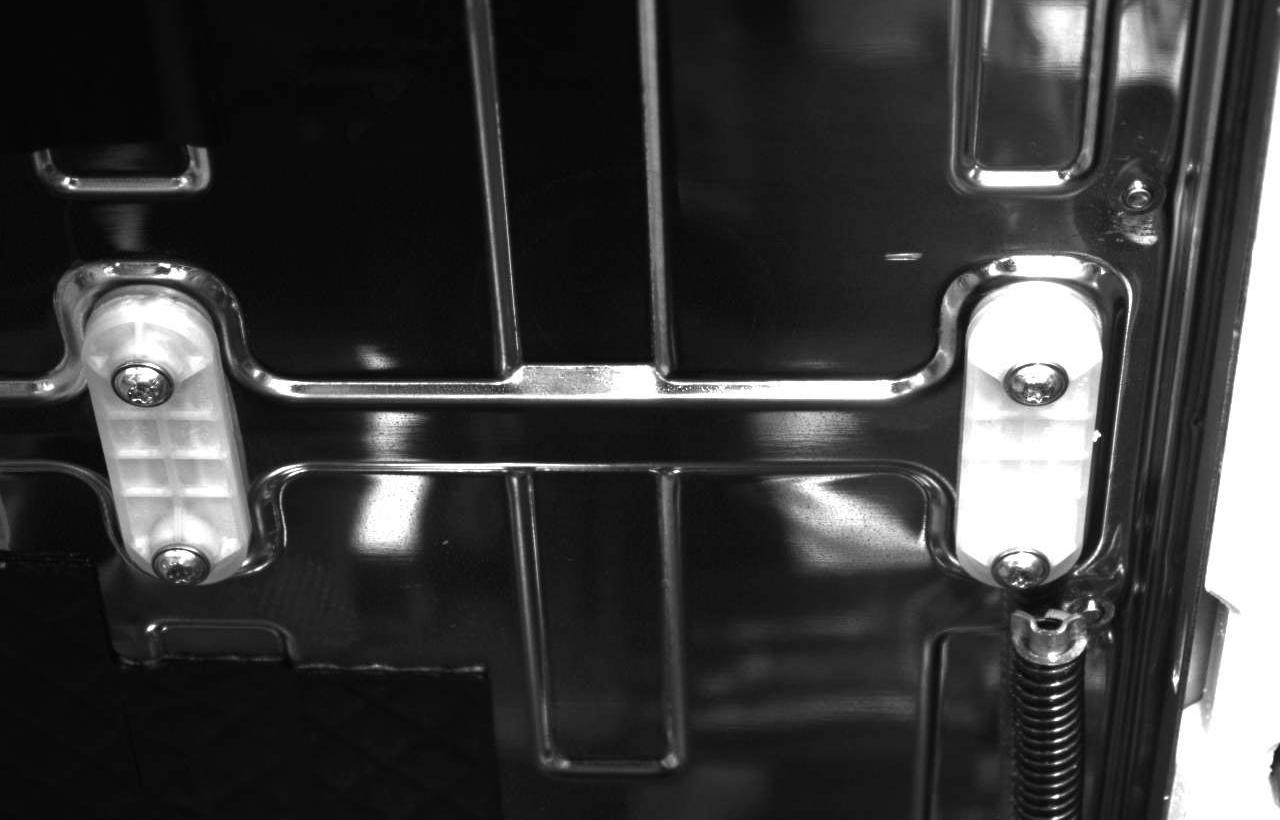vida-ok: (107, 351, 179, 418), (1006, 351, 1073, 418), (150, 529, 216, 588), (991, 538, 1057, 597)
